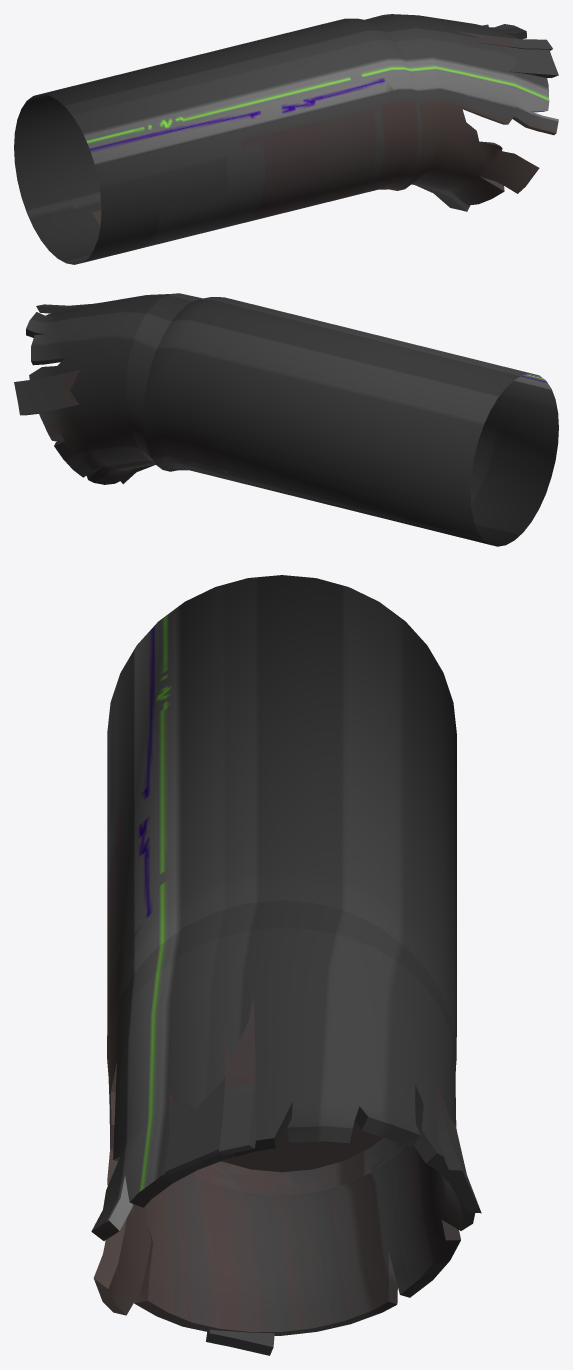
File: SM_Pipe_Broken_Mid.fbx
3 views of the same model, one above another, from view 1: azimuth 30°, elevation 25°; view 2: azimuth 150°, elevation 25°; view 3: azimuth 270°, elevation 25° (orthographic). The views are drawn at different scales.
Parts seen in each view (by area): view 1: SM_Pipe_Broken_Mid; view 2: SM_Pipe_Broken_Mid; view 3: SM_Pipe_Broken_Mid.
Part boxes in pixels (x1=…): SM_Pipe_Broken_Mid: x1=14, y1=14, x2=558, y2=264; SM_Pipe_Broken_Mid: x1=14, y1=293, x2=558, y2=546; SM_Pipe_Broken_Mid: x1=91, y1=575, x2=481, y2=1355.
Bounding box in the file's own units: 9.61 × 3.85 × 3.38.
